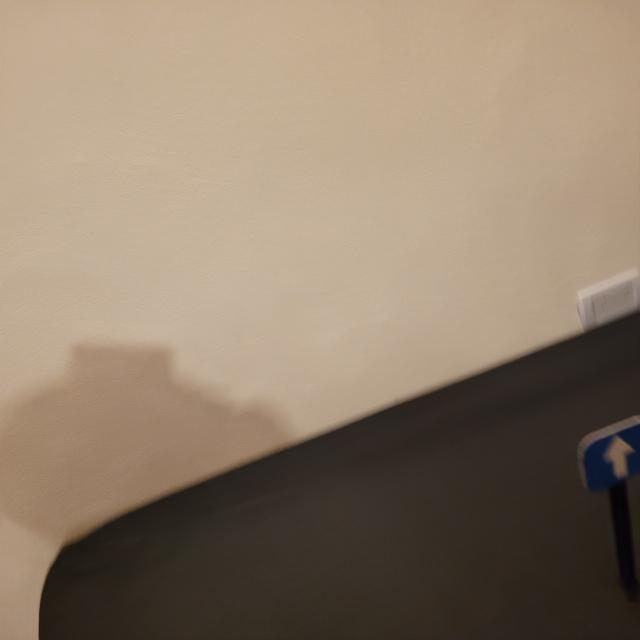one_way: (575, 415, 640, 492)
